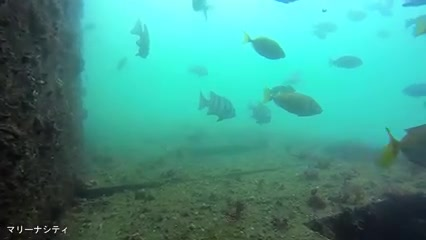smallfish: (256, 73, 329, 116), (239, 28, 297, 71), (195, 89, 242, 123), (326, 50, 375, 82), (132, 21, 153, 62)
